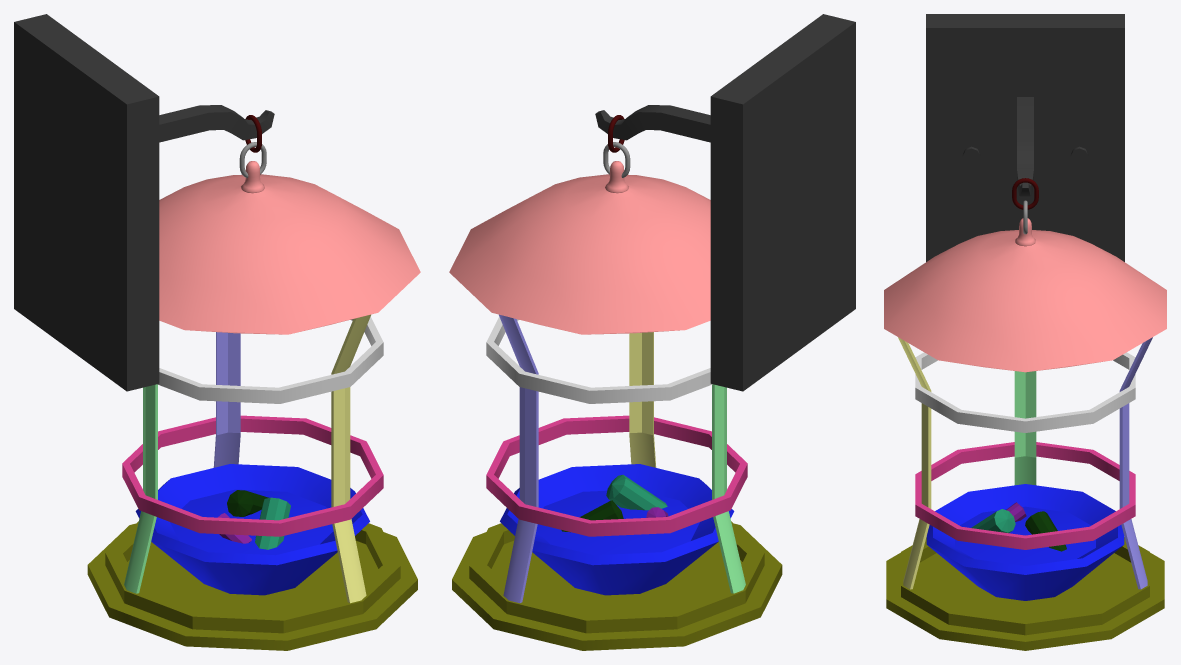
Rendered from charcoal with holder.FBX.
The picture shows the model from 3 angles, left to right: view 1: azimuth 30°, elevation 25°; view 2: azimuth 150°, elevation 25°; view 3: azimuth 270°, elevation 25°; orthographic projection. The views are drawn at different scales.
Parts seen in each view (by area): view 1: Holder, Top, Bottom, Bowl, Ring01, Rod02, Ring02, Rod01, Rod03, Charcoal01, Charcoal02; view 2: Holder, Top, Bottom, Bowl, Ring01, Rod03, Ring02, Rod01, Rod02, Charcoal01; view 3: Holder, Top, Bottom, Bowl, Ring01, Ring02, Rod02, Rod03, Rod01, Charcoal01, Charcoal02.
Part boxes in pixels (<box>): Holder: <box>14,14,274,391</box>; Top: <box>159,161,420,334</box>; Bottom: <box>87,521,417,650</box>; Bowl: <box>135,464,369,595</box>; Ring01: <box>122,415,383,536</box>; Rod02: <box>331,314,370,603</box>; Ring02: <box>157,317,383,403</box>; Rod01: <box>124,384,157,593</box>; Rod03: <box>213,332,240,467</box>; Charcoal01: <box>255,497,290,549</box>; Charcoal02: <box>227,490,268,516</box>; Holder: <box>595,14,855,391</box>; Top: <box>449,161,710,334</box>; Bottom: <box>452,521,782,650</box>; Bowl: <box>500,464,734,595</box>; Ring01: <box>486,415,747,536</box>; Rod03: <box>499,314,538,603</box>; Ring02: <box>486,317,712,403</box>; Rod01: <box>712,384,745,593</box>; Rod02: <box>629,332,656,467</box>; Charcoal01: <box>606,474,667,510</box>; Holder: <box>926,14,1124,261</box>; Top: <box>884,218,1166,372</box>; Bottom: <box>886,537,1164,650</box>; Bowl: <box>926,484,1124,600</box>; Ring01: <box>915,442,1135,549</box>; Ring02: <box>915,352,1135,432</box>; Rod02: <box>898,337,931,589</box>; Rod03: <box>1119,337,1152,589</box>; Rod01: <box>1014,371,1036,485</box>; Charcoal01: <box>971,509,1015,533</box>; Charcoal02: <box>1025,511,1066,551</box>.
Size of the model in its own units: 505 by 828 by 427.
